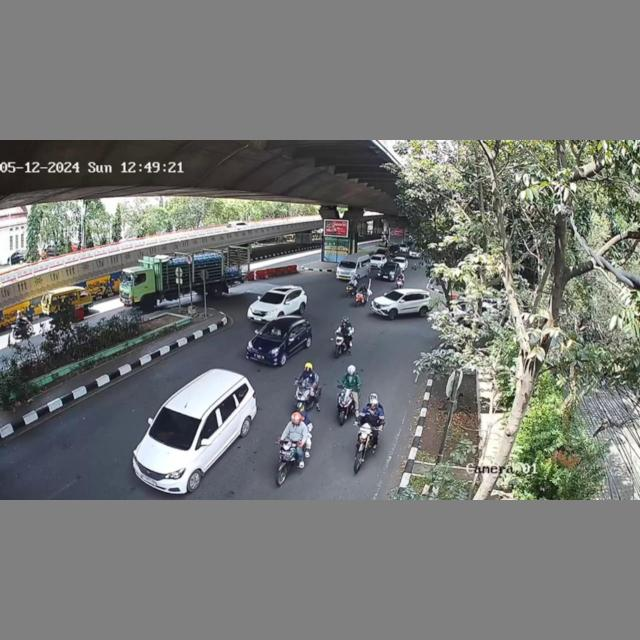windshield: (149, 406, 202, 448), (257, 322, 288, 345), (258, 290, 288, 307)
